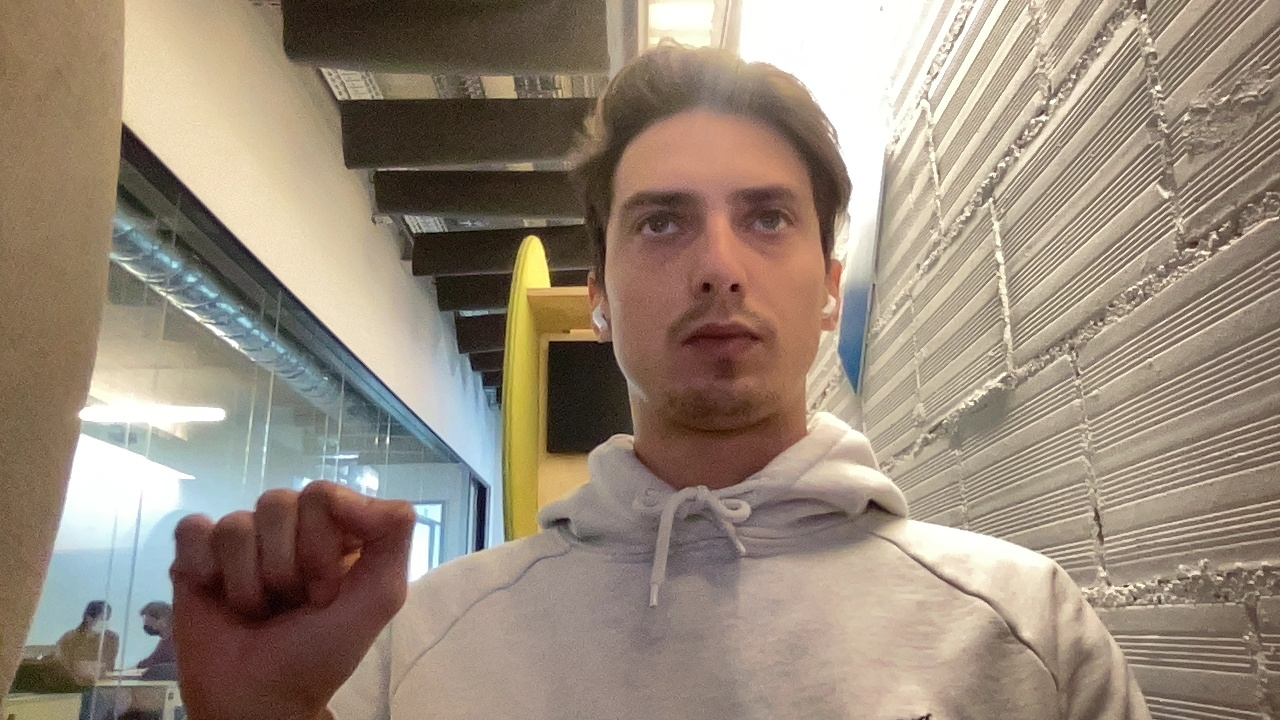yes: (132, 466, 432, 708)
